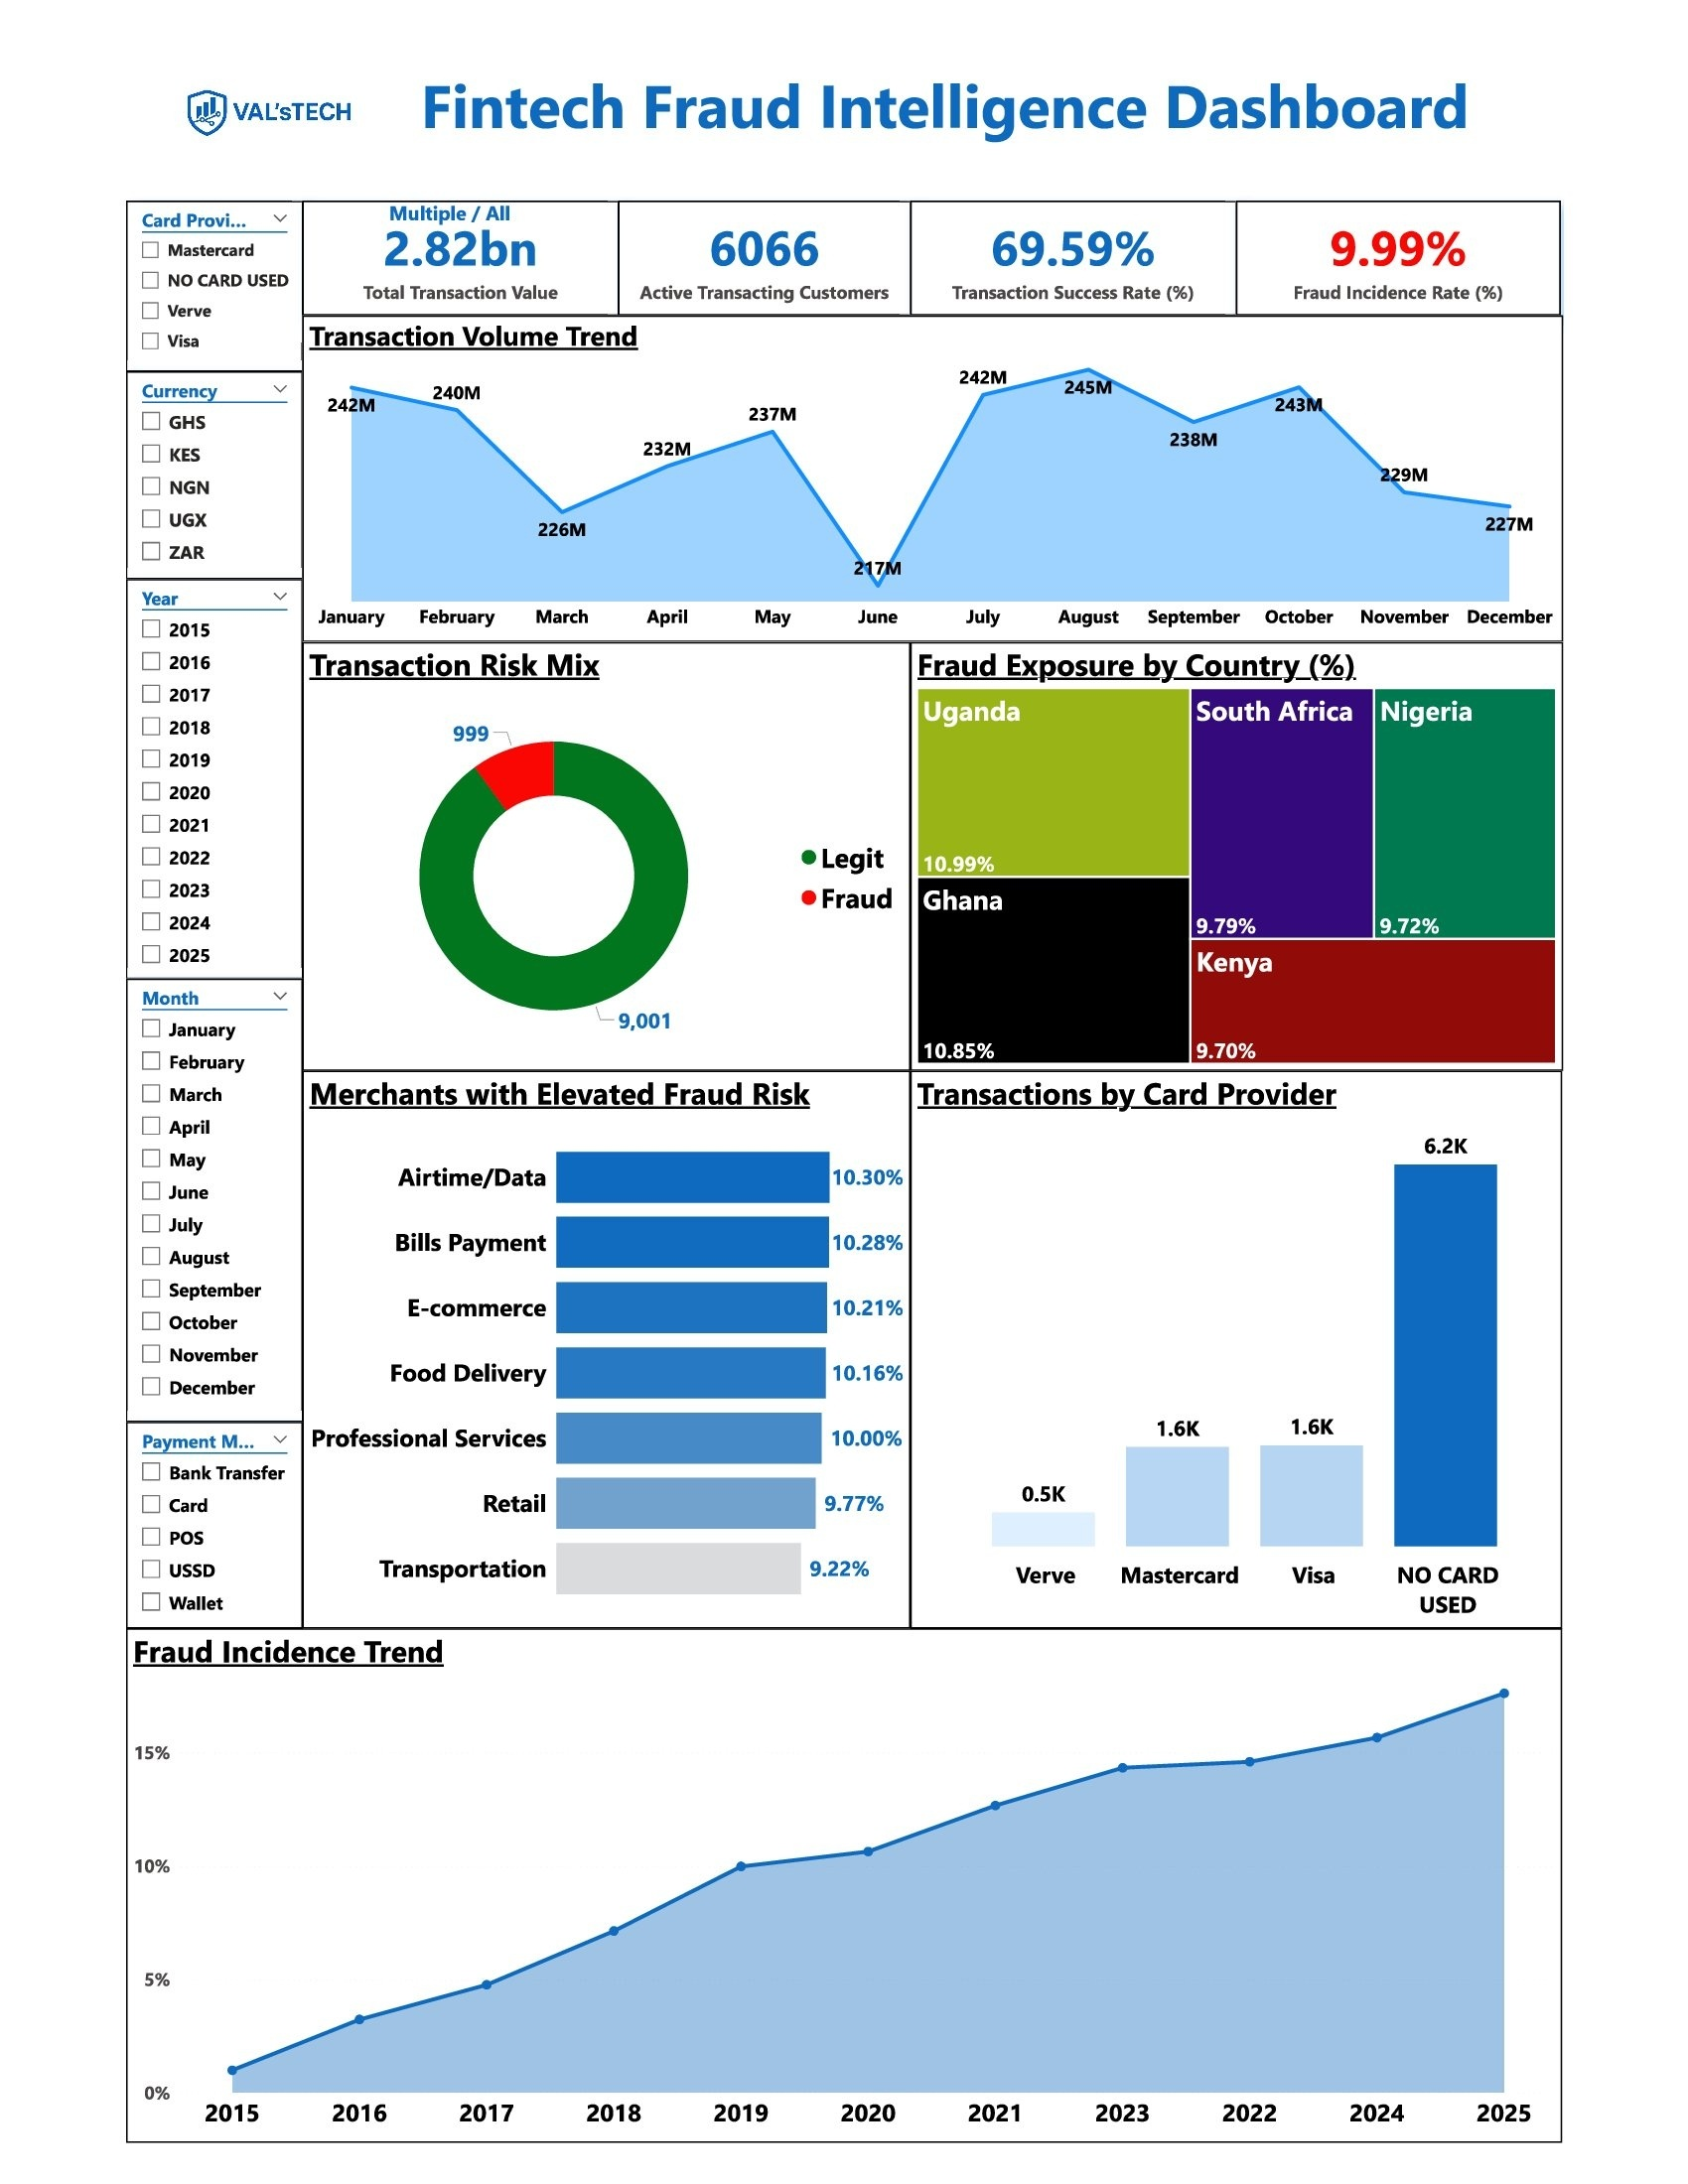

The page's visual inventory and layout, read from the dashboard file:
{"tool":"powerbi","page":{"name":"Page 1","canvas":[1280,1900],"ordinal":0},"visuals":[{"type":"image","box":[0,0,252.2,155.5],"z":0},{"type":"textbox","box":[256.7,26.7,953.3,101.7],"z":1000},{"type":"slicer","fields":{"Values":["fintech_transactions_analytics.Card Provider"]},"box":[0,155,156.7,151.7],"z":2000},{"type":"slicer","fields":{"Values":["fintech_transactions_analytics.Currency"]},"box":[0,306.7,156.7,185],"z":3000},{"type":"card","fields":{"Values":["_Fintech_Measures.Total Transaction Volume"]},"box":[157,155,281,102],"z":4000},{"type":"card","fields":{"Values":["_Fintech_Measures.Active Users"]},"box":[438.1,155.4,260,101.7],"z":5000},{"type":"card","fields":{"Values":["_Fintech_Measures.Successful Transaction Rate (%)"]},"box":[698.1,155.4,289.7,101.7],"z":6000},{"type":"slicer","fields":{"Values":["Date Table.Year"]},"box":[0,492,157,356],"z":8000},{"type":"card","fields":{"Values":["_Fintech_Measures.Fraud Rate (%)"]},"box":[987.8,155.4,289.7,101.7],"z":10000},{"type":"card","fields":{"Values":["_Fintech_Measures.Currency Label"]},"box":[218.2,154.4,140,26.7],"z":11000},{"type":"areaChart","title":"Transaction Volume Trend","fields":{"Category":["Date Table.Month"],"Y":["_Fintech_Measures.Total Transaction Volume"]},"box":[156.9,257.2,1122,291.1],"z":12000},{"type":"treemap","title":"Fraud Exposure by Country (%)","fields":{"Values":["_Fintech_Measures.Fraud Rate (%)"],"Group":["fintech_transactions_analytics.Country"]},"box":[698.1,548.3,580.8,381.5],"z":15000},{"type":"columnChart","title":"Transactions by Card Provider","fields":{"Category":["fintech_transactions_analytics.Card Provider"],"Y":["_Fintech_Measures.Number of Transactions"]},"box":[698.3,930,580,496.7],"z":16000},{"type":"slicer","fields":{"Values":["Date Table.Month"]},"box":[0,848,157,395],"z":17500},{"type":"slicer","fields":{"Values":["fintech_transactions_analytics.Payment Method"]},"box":[0,1243.3,156.7,183.3],"z":18000},{"type":"lineChart","title":"Fraud Incidence Trend","fields":{"Y":["_Fintech_Measures.Fraud Rate (%)"],"Category":["Date Table.Year"]},"box":[0,1426.7,1278.3,458.3],"z":18500},{"type":"barChart","title":"Merchants with Elevated Fraud Risk","fields":{"Y":["_Fintech_Measures.Fraud Rate (%)"],"Category":["fintech_transactions_analytics.Merchant Category"]},"box":[156.7,930,541.7,496.7],"z":19000},{"type":"donutChart","title":"Transaction Risk Mix","fields":{"Y":["_Fintech_Measures.Number of Transactions"],"Category":["fintech_transactions_analytics.Fraud Label Flag"]},"box":[156.9,548.3,541.2,381.5],"z":19500}]}

Visuals, with their boxes in screenshot pixels (x1, y1, x2, y2):
image: left=119, top=11, right=405, bottom=188
textbox: left=410, top=42, right=1491, bottom=157
slicer - fintech_transactions_analytics.Card Provider: left=119, top=187, right=297, bottom=359
slicer - fintech_transactions_analytics.Currency: left=119, top=359, right=297, bottom=569
card - _Fintech_Measures.Total Transaction Volume: left=298, top=187, right=616, bottom=303
card - _Fintech_Measures.Active Users: left=617, top=188, right=911, bottom=303
card - _Fintech_Measures.Successful Transaction Rate (%): left=911, top=188, right=1239, bottom=303
slicer - Date Table.Year: left=119, top=569, right=298, bottom=973
card - _Fintech_Measures.Fraud Rate (%): left=1239, top=188, right=1568, bottom=303
card - _Fintech_Measures.Currency Label: left=366, top=187, right=525, bottom=216
"Transaction Volume Trend" areaChart: left=297, top=303, right=1570, bottom=633
"Fraud Exposure by Country (%)" treemap: left=911, top=633, right=1570, bottom=1065
"Transactions by Card Provider" columnChart: left=912, top=1065, right=1569, bottom=1629
slicer - Date Table.Month: left=119, top=973, right=298, bottom=1421
slicer - fintech_transactions_analytics.Payment Method: left=119, top=1421, right=297, bottom=1628
"Fraud Incidence Trend" lineChart: left=119, top=1629, right=1569, bottom=2148
"Merchants with Elevated Fraud Risk" barChart: left=297, top=1065, right=912, bottom=1629
"Transaction Risk Mix" donutChart: left=297, top=633, right=911, bottom=1065
